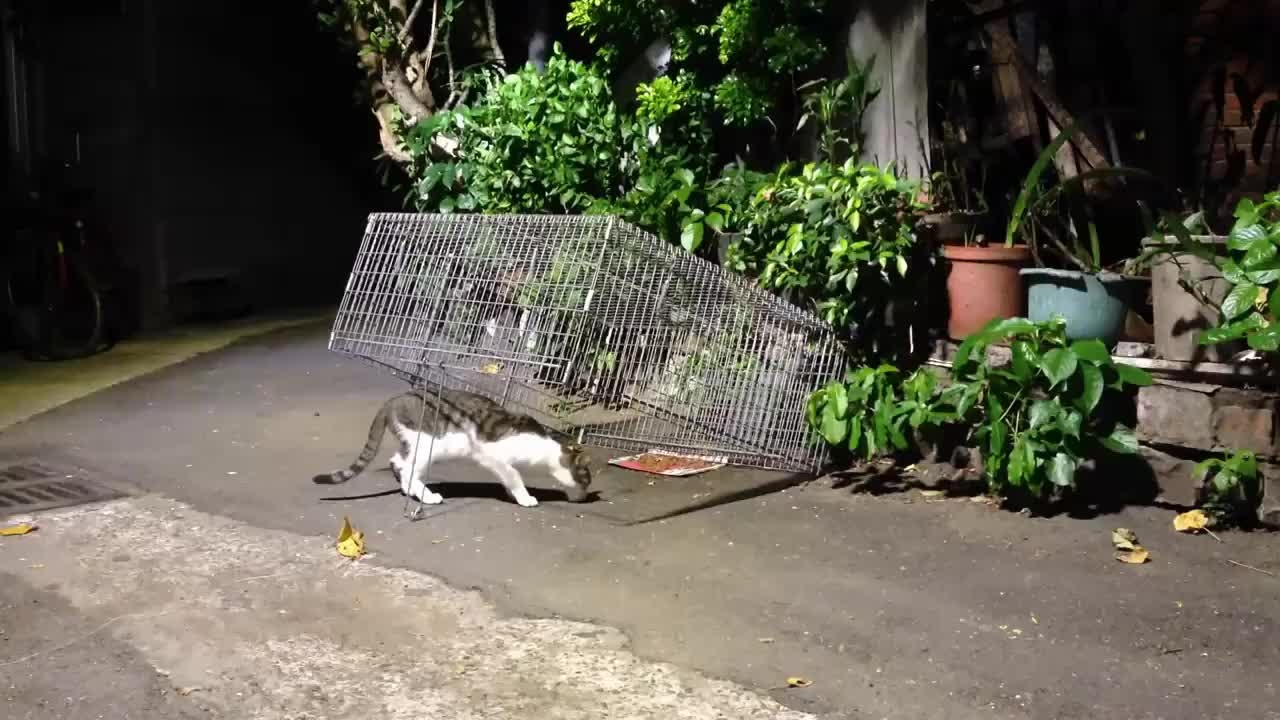cat: (312, 386, 593, 506)
